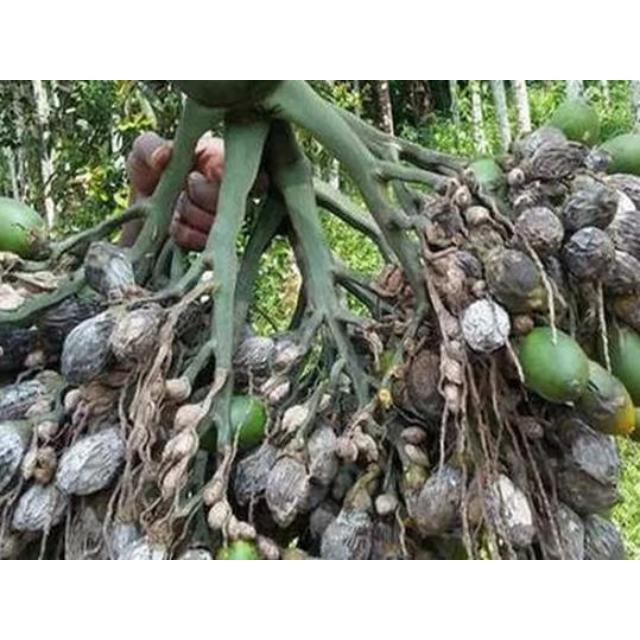damaged: (54, 428, 126, 497), (479, 474, 536, 550), (407, 465, 467, 535), (60, 314, 116, 386), (488, 248, 548, 314), (110, 306, 164, 368), (10, 480, 68, 534), (84, 240, 136, 300), (427, 248, 477, 310), (562, 226, 618, 280), (232, 446, 280, 508), (344, 317, 390, 381), (562, 185, 618, 237), (319, 509, 376, 559), (524, 138, 586, 182), (512, 205, 564, 253), (233, 335, 279, 385), (514, 180, 568, 222), (306, 426, 342, 482), (172, 298, 212, 348), (364, 517, 408, 561), (426, 195, 466, 242), (604, 248, 640, 298), (469, 214, 509, 253), (268, 338, 306, 378), (162, 431, 198, 465), (307, 504, 338, 542), (436, 307, 464, 343), (280, 404, 310, 436), (451, 250, 483, 280), (401, 462, 431, 494), (161, 462, 189, 496), (174, 403, 206, 431), (440, 353, 464, 387), (206, 501, 232, 531), (202, 477, 226, 507), (144, 378, 168, 407), (164, 377, 192, 401), (402, 444, 430, 468), (227, 518, 255, 542), (464, 205, 492, 227), (334, 437, 358, 461), (351, 431, 375, 455), (374, 494, 400, 516), (62, 388, 84, 414), (400, 426, 428, 446), (24, 400, 52, 420), (442, 382, 462, 408), (452, 183, 472, 209), (36, 420, 59, 442), (506, 167, 526, 187)
